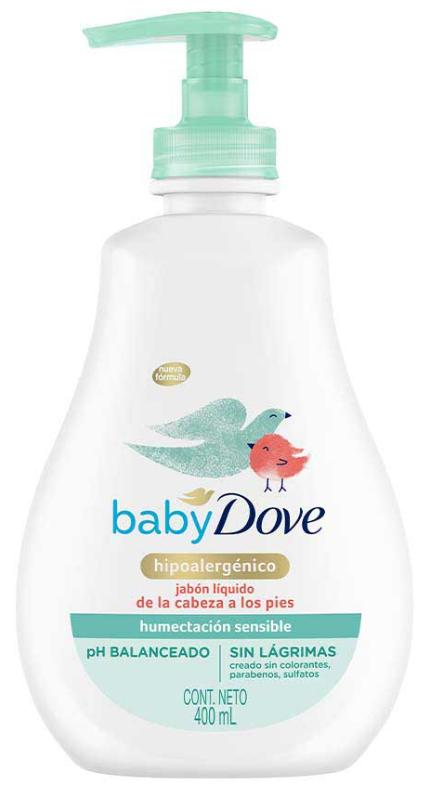brand: (102, 491, 330, 542)
extra_detail: (145, 553, 289, 578)
net_weight: (193, 706, 240, 729)
product_name: (173, 580, 258, 598)
